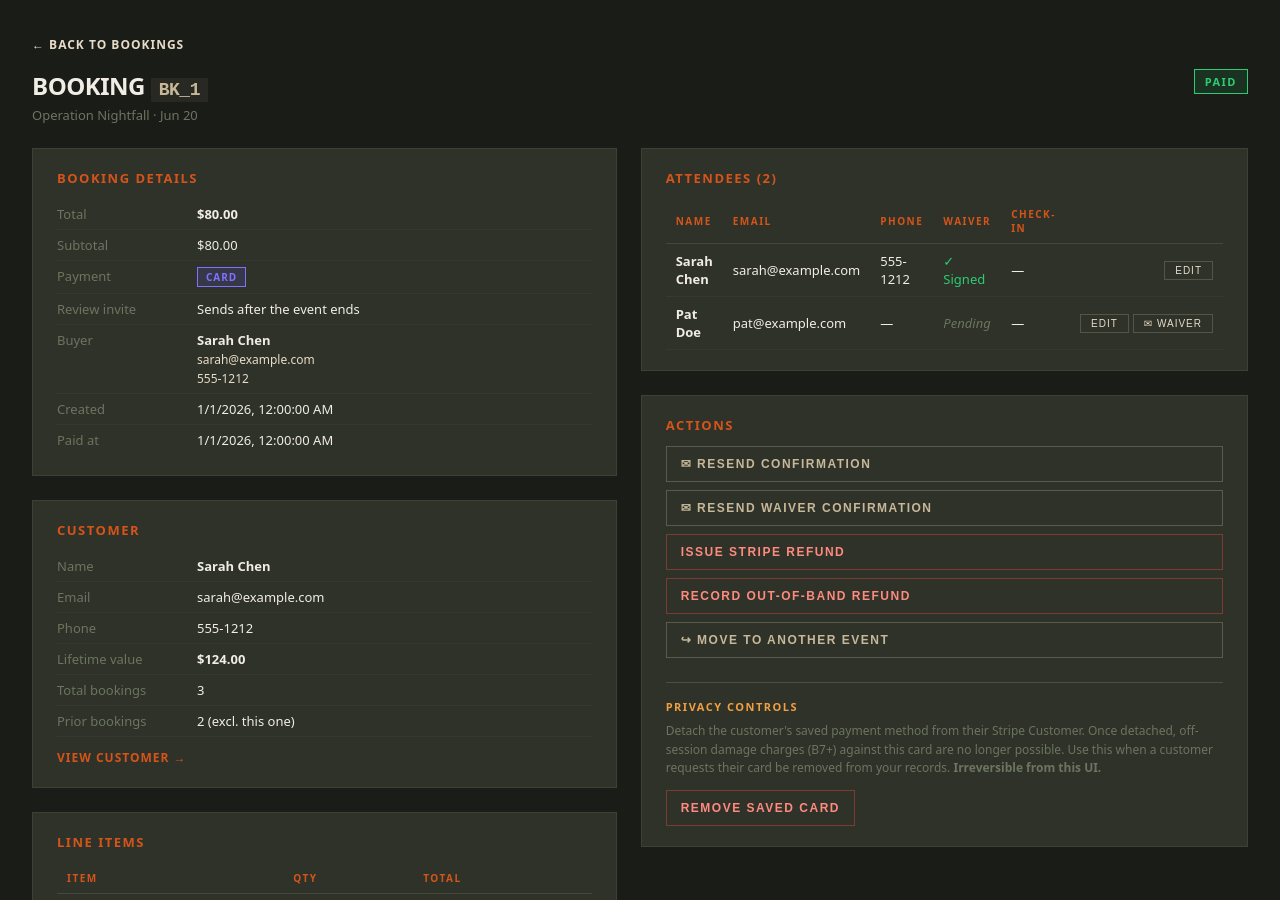
Test: AdminBookingsDetail › reschedule price-diff reads the stored snake_case line items (paid amount is real, not $0)
Click the button "↪ Move to another event".
click(785, 640)  # box [666, 622, 1223, 658]
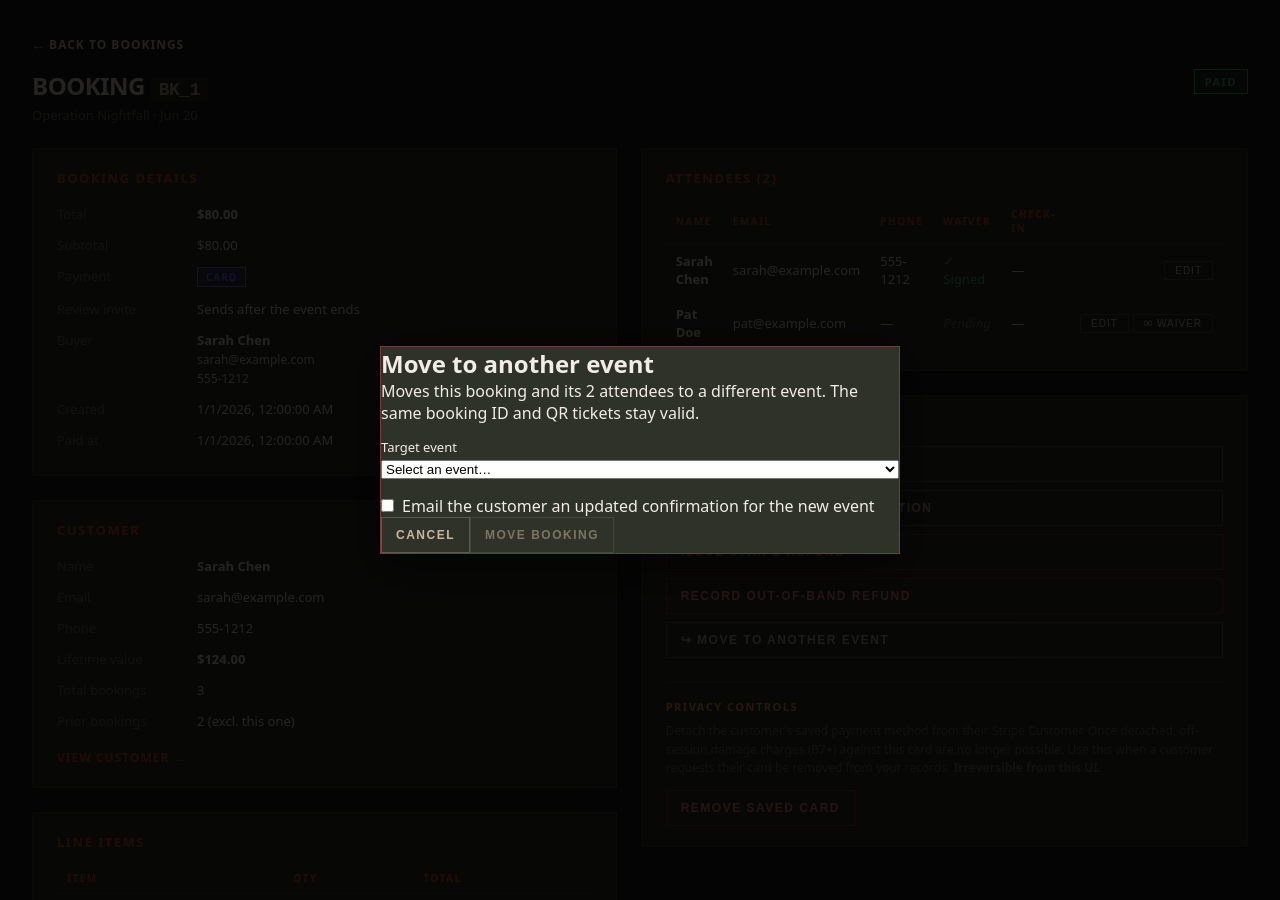
# The modal selects have no accessible names — target by displayed value.
Select "Volga Flank" in the dropdown showing "Select an event…" at (640, 469), box [381, 460, 899, 479]
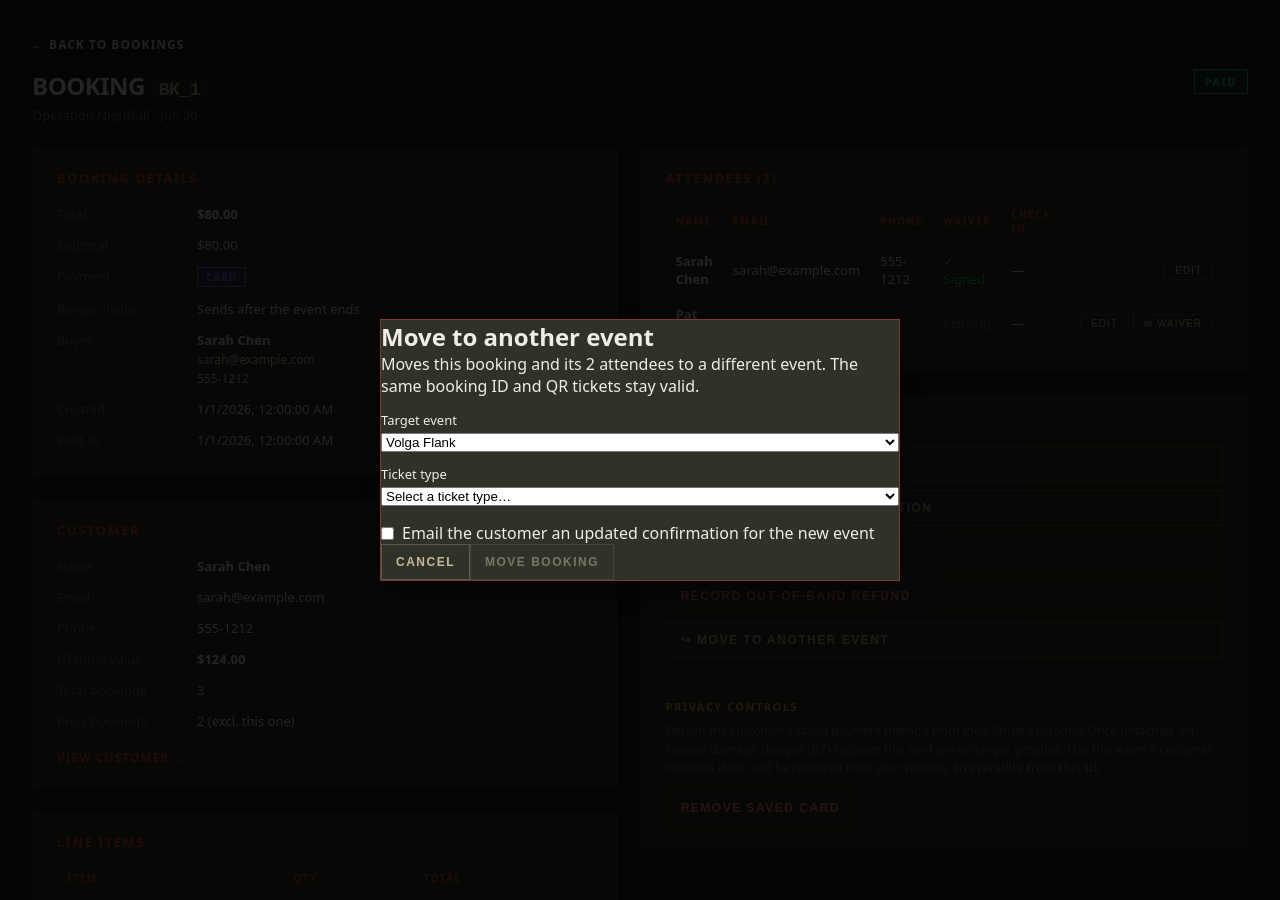
Select "GA — $50.00" in the 2nd dropdown showing "Select a ticket type…" at (640, 497), box [381, 487, 899, 506]
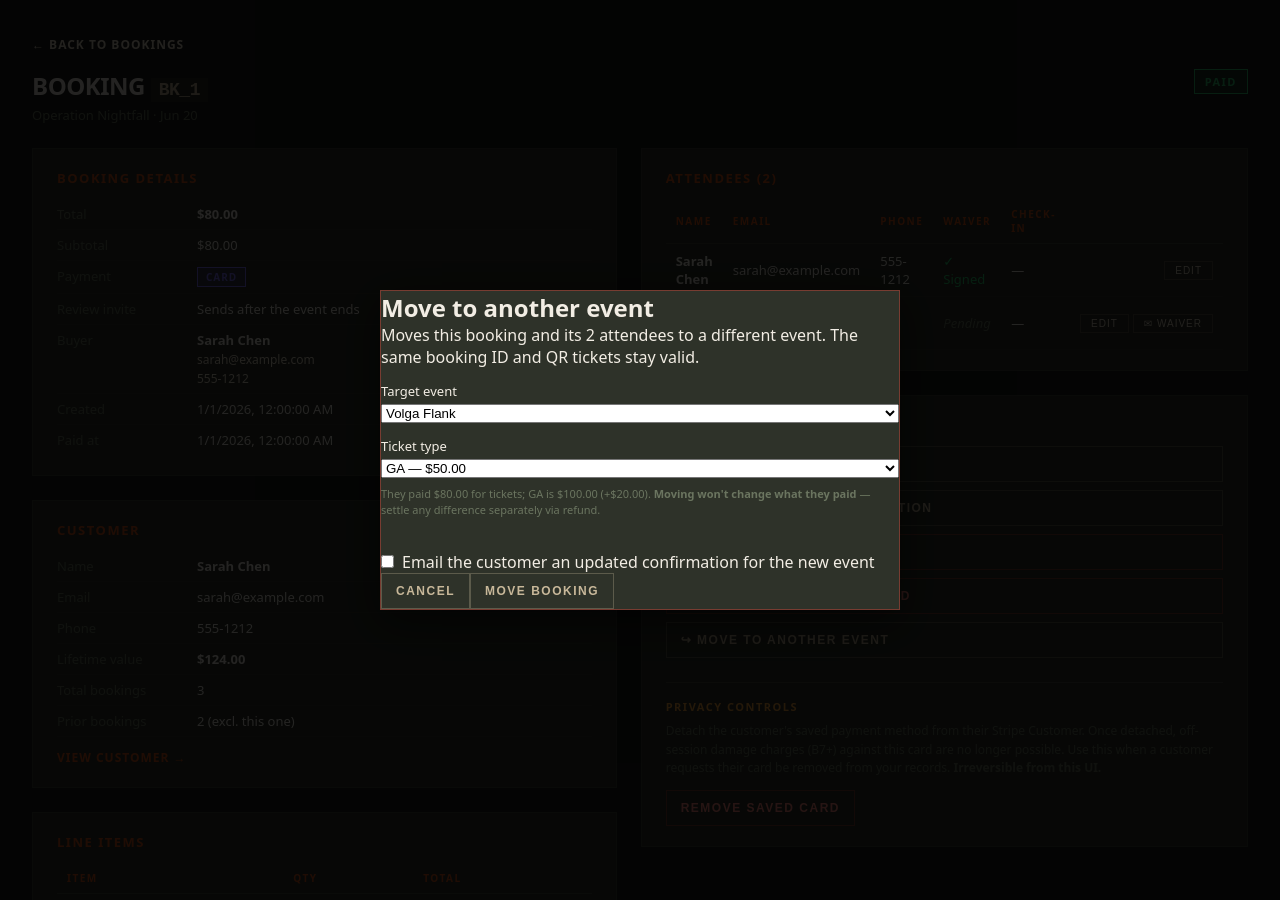
Now the text "They paid $80.00 for tickets" shows "GA is $100.00", box [381, 486, 899, 519]
Now the text "They paid $80.00 for tickets" shows "+$20.00", box [381, 486, 899, 519]
